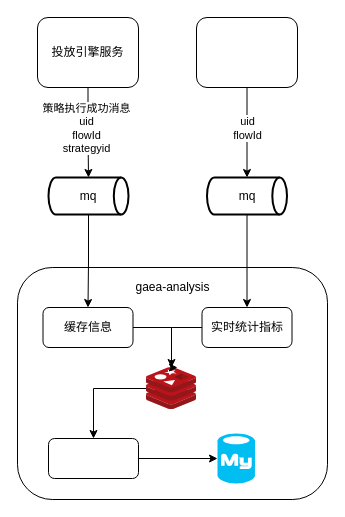
This 345x517 diagram has some shape labels left out. Each missing label, with the box of its shape:
定时按天归档: (48, 438, 138, 478)
目标收集服务: (196, 16, 298, 88)
